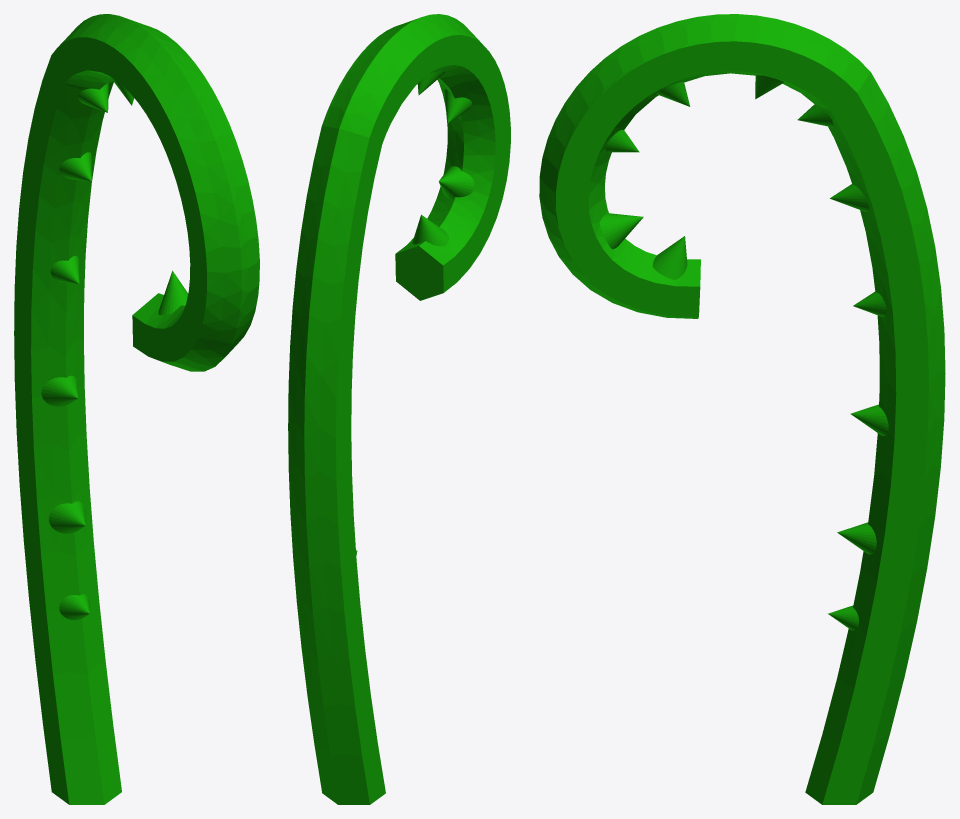
Rendered from Bracken11.fbx.
3 views of the same model, side by side, from view 1: azimuth 30°, elevation 25°; view 2: azimuth 150°, elevation 25°; view 3: azimuth 270°, elevation 25° (orthographic). The views are drawn at different scales.
Visible parts, largest first — view 1: 고사리; view 2: 고사리; view 3: 고사리.
Boxes of the visible parts, box(x1,y1,x2,y2) form: 고사리: box(14, 14, 259, 804); 고사리: box(288, 14, 510, 804); 고사리: box(539, 14, 945, 804).
Size of the model in its own units: 289 by 4219 by 1994.
